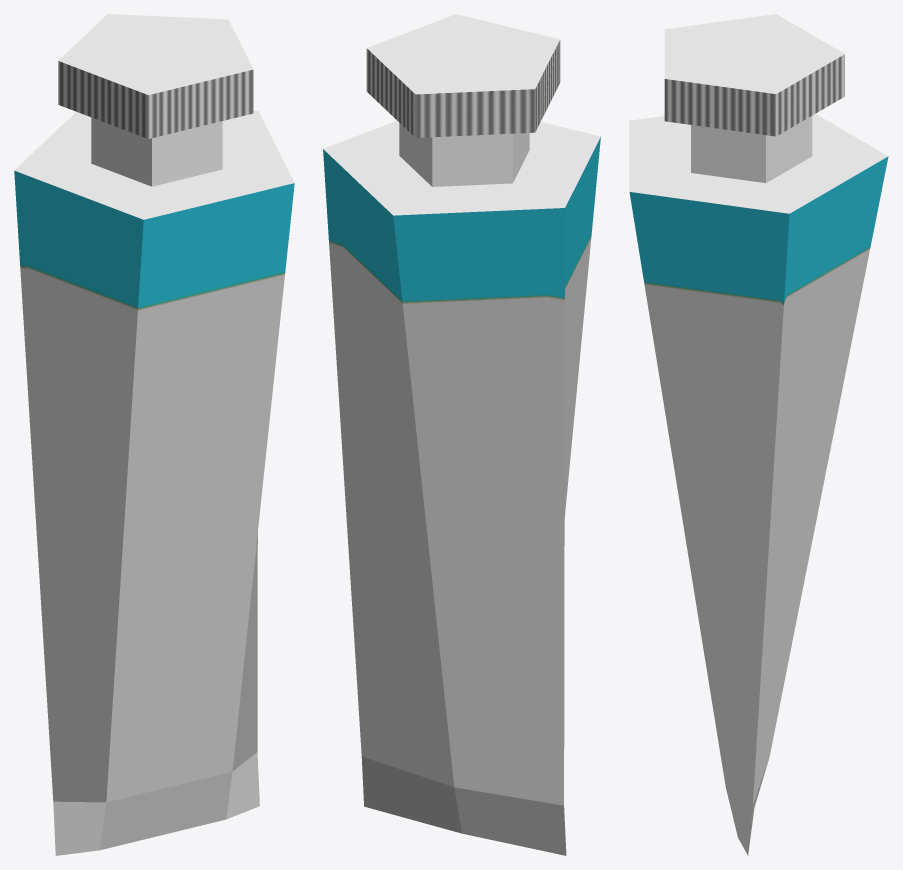
File: dyestuffs_Skyblue.fbx
3 renders of one model, left to right at view 1: azimuth 30°, elevation 25°; view 2: azimuth 150°, elevation 25°; view 3: azimuth 270°, elevation 25°, orthographic. The views are drawn at different scales.
Visible parts, largest first — view 1: Cylinder005; view 2: Cylinder005; view 3: Cylinder005.
Part boxes in pixels (x1=…): Cylinder005: x1=14, y1=14, x2=294, y2=855; Cylinder005: x1=323, y1=14, x2=600, y2=855; Cylinder005: x1=629, y1=14, x2=888, y2=855.
Bounding box in the file's own units: 0.8103 × 2.47 × 0.7707.
1 material, 1 textured.
